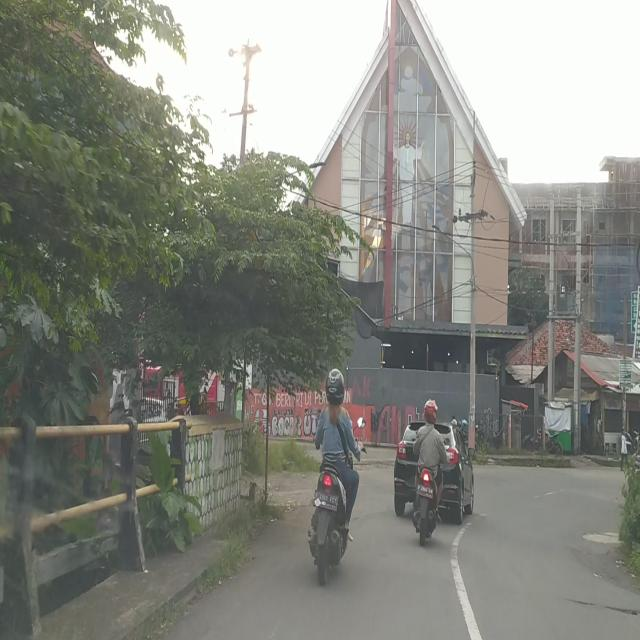Sewer Cover: (571, 591, 640, 616)
